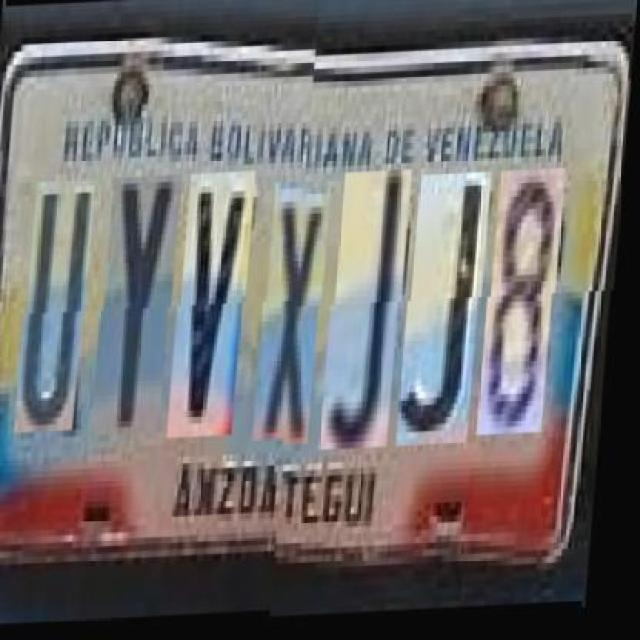8: (488, 167, 569, 435)
j: (408, 170, 495, 444), (332, 168, 416, 448)
u: (24, 179, 99, 433)
v: (178, 173, 258, 441)
x: (263, 184, 335, 444)
y: (102, 177, 185, 437)
